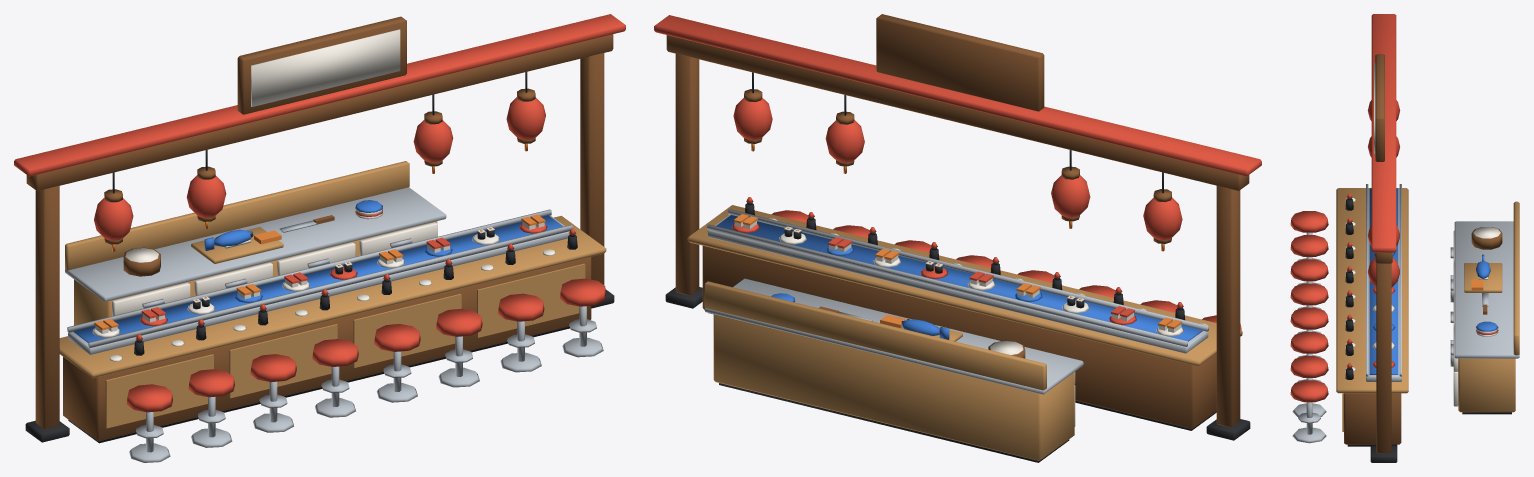
The model's file is conveyor-sushi-bar.glb.
3 views of the same model, side by side, from view 1: azimuth 30°, elevation 25°; view 2: azimuth 150°, elevation 25°; view 3: azimuth 270°, elevation 25° (orthographic). The views are drawn at different scales.
Parts seen in each view (by area): view 1: Counter_Top, Counter_Body, Beam_Cap, Prep_Top, Beam, Prep_Backsplash, Sign_Face, Post_L, Post_R, Conveyor_Belt, Sign_Frame, Counter_Panel_0 (+26 smaller); view 2: Prep_Body, Counter_Body, Beam_Cap, Sign_Frame, Beam, Prep_Backsplash, Counter_Top, Post_L, Post_R, Prep_Top, Conveyor_Belt, Conveyor_Frame (+7 smaller); view 3: Counter_Top, Prep_Top, Beam_Cap, Prep_Body, Post_R, Counter_Body, Conveyor_Belt, Sign_Frame, Prep_Backsplash, CuttingBoard, Conveyor_Frame, Stool_2_Seat (+15 smaller).
Part boxes in pixels (x1,y1,x2,y2): Counter_Top: [59, 215, 606, 378]; Counter_Body: [63, 257, 591, 441]; Beam_Cap: [14, 14, 625, 176]; Prep_Top: [65, 187, 446, 301]; Beam: [26, 34, 613, 191]; Prep_Backsplash: [65, 161, 409, 270]; Sign_Face: [251, 29, 400, 106]; Post_L: [35, 185, 59, 429]; Post_R: [580, 53, 604, 284]; Conveyor_Belt: [73, 215, 563, 342]; Sign_Frame: [237, 16, 406, 114]; Counter_Panel_0: [105, 354, 213, 428]; Prep_Body: [713, 314, 1074, 460]; Counter_Body: [702, 246, 1216, 428]; Beam_Cap: [654, 15, 1261, 176]; Sign_Frame: [876, 14, 1044, 111]; Beam: [666, 35, 1249, 190]; Prep_Backsplash: [704, 281, 1046, 390]; Counter_Top: [687, 205, 1242, 366]; Post_L: [1216, 185, 1240, 427]; Post_R: [675, 53, 699, 295]; Prep_Top: [704, 278, 1083, 394]; Conveyor_Belt: [716, 215, 1202, 341]; Conveyor_Frame: [707, 215, 1208, 353]; Counter_Top: [1336, 188, 1408, 393]; Prep_Top: [1454, 221, 1519, 358]; Beam_Cap: [1371, 14, 1396, 252]; Prep_Body: [1458, 358, 1515, 412]; Post_R: [1376, 263, 1391, 453]; Counter_Body: [1344, 393, 1401, 444]; Conveyor_Belt: [1369, 188, 1398, 374]; Sign_Frame: [1375, 54, 1384, 161]; Prep_Backsplash: [1513, 201, 1519, 355]; CuttingBoard: [1464, 263, 1502, 292]; Conveyor_Frame: [1366, 188, 1401, 381]; Stool_2_Seat: [1290, 259, 1328, 281].
Bounding box in the file's own units: 29 × 15.35 × 12.
